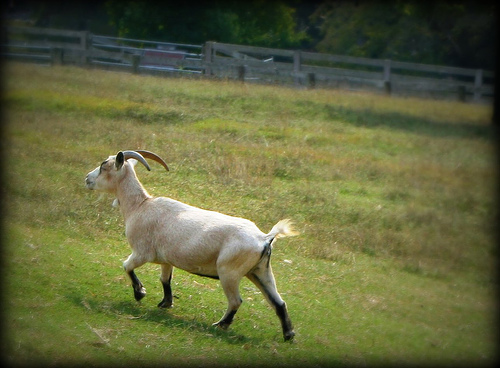goat: (85, 149, 300, 347)
